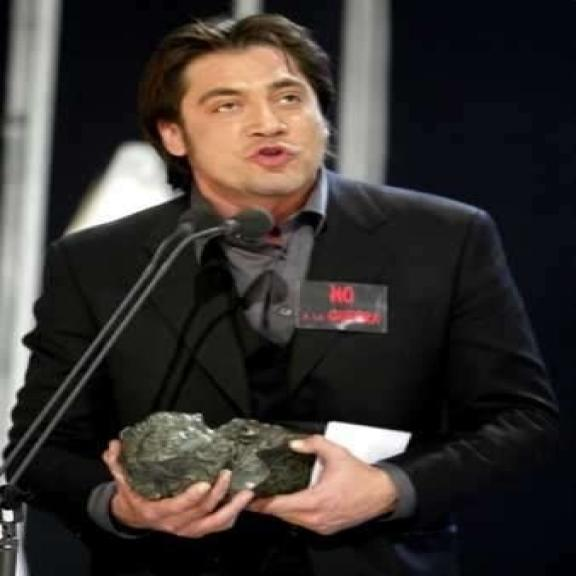face: (156, 45, 341, 211)
